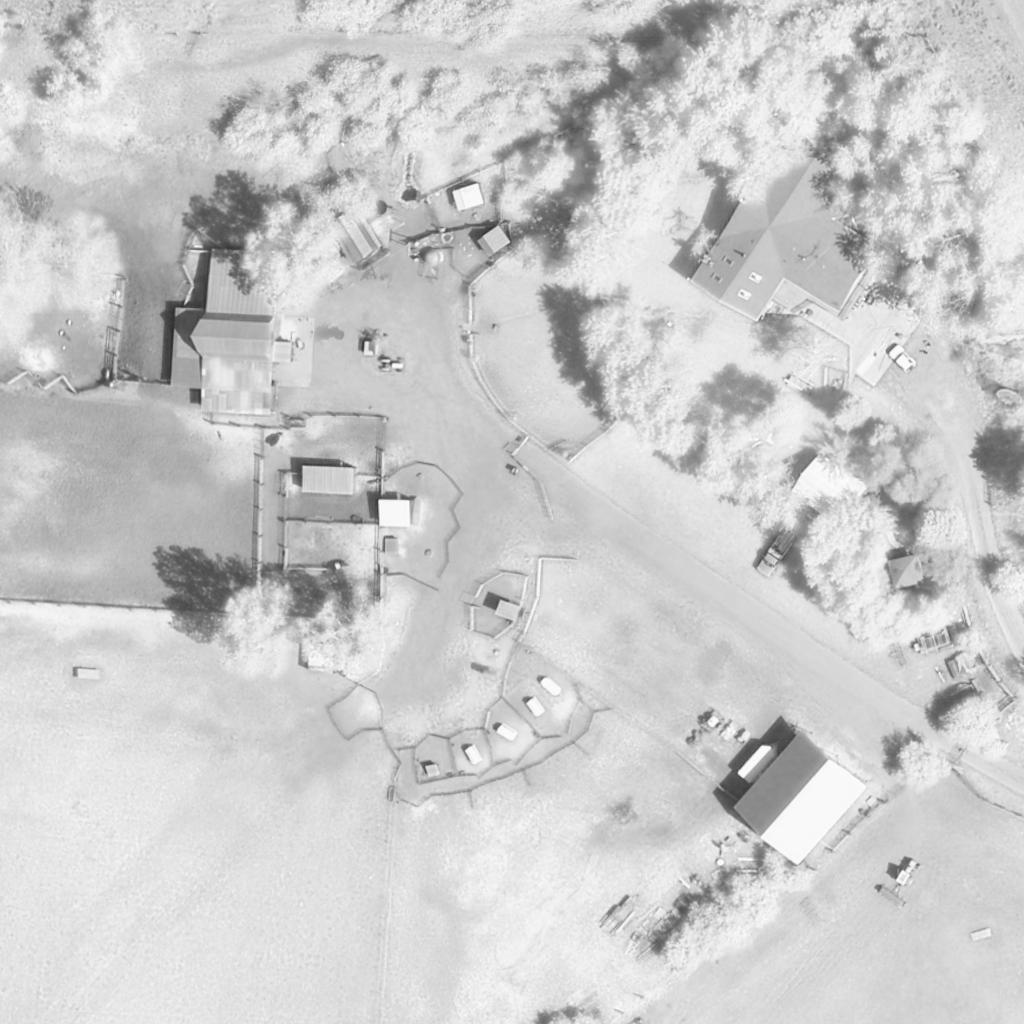vehicle: (755, 525, 799, 579), (736, 739, 782, 785), (889, 858, 927, 888), (885, 344, 919, 376), (378, 354, 408, 376)
